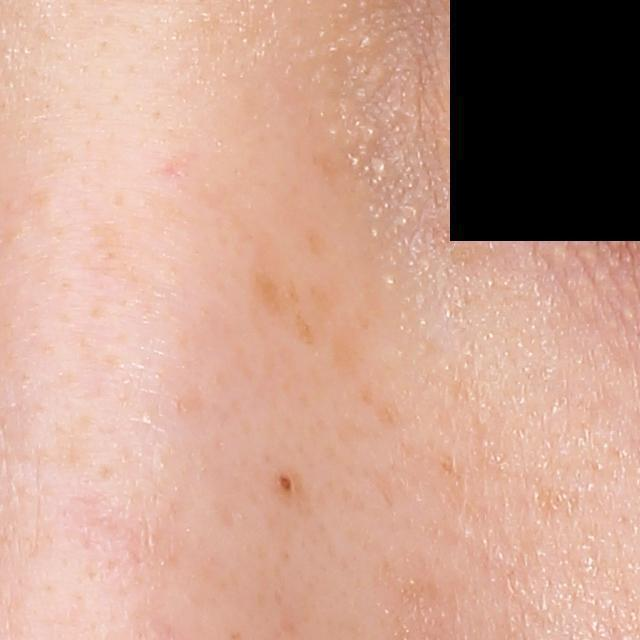comedo: (270, 465, 305, 501)
melasma: (359, 382, 411, 437), (332, 327, 371, 373), (293, 307, 319, 346), (304, 227, 327, 258)
